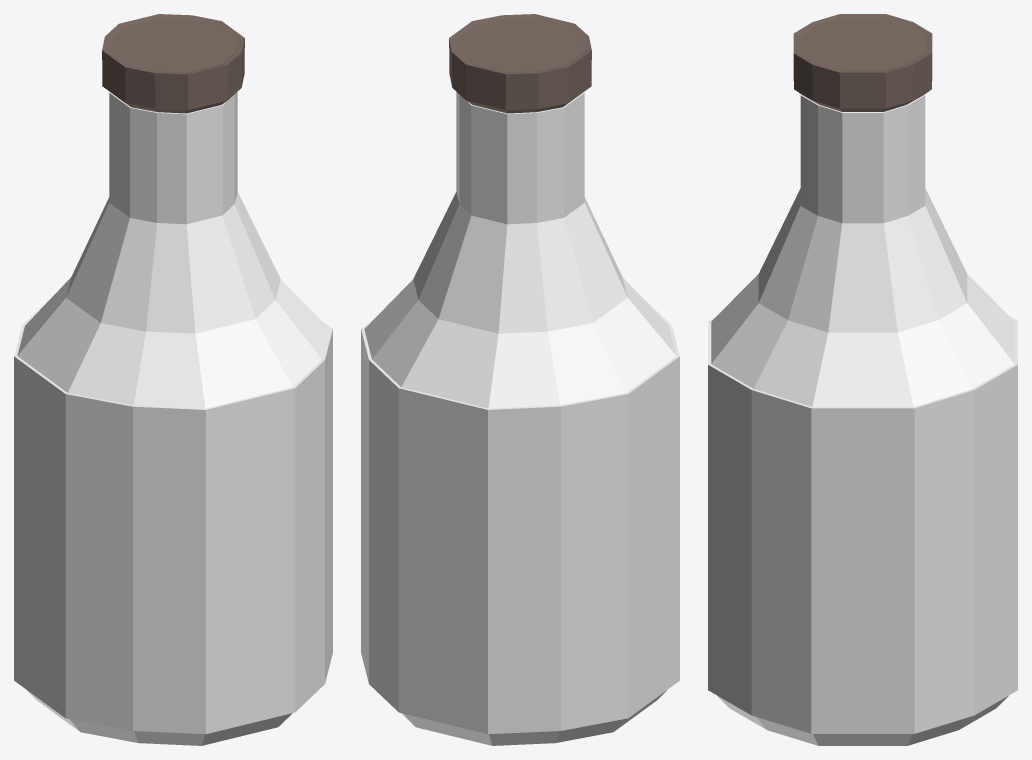
The model's file is Bottle.fbx.
3 views of the same model, side by side, from view 1: azimuth 30°, elevation 25°; view 2: azimuth 150°, elevation 25°; view 3: azimuth 270°, elevation 25° (orthographic).
Parts seen in each view (by area): view 1: pCube8; view 2: pCube8; view 3: pCube8.
Part boxes in pixels (x1,y1,x2,y2): pCube8: [14, 14, 332, 745]; pCube8: [361, 14, 679, 745]; pCube8: [708, 14, 1017, 745].
Size of the model in its own units: 2.75 by 6.33 by 2.75.
